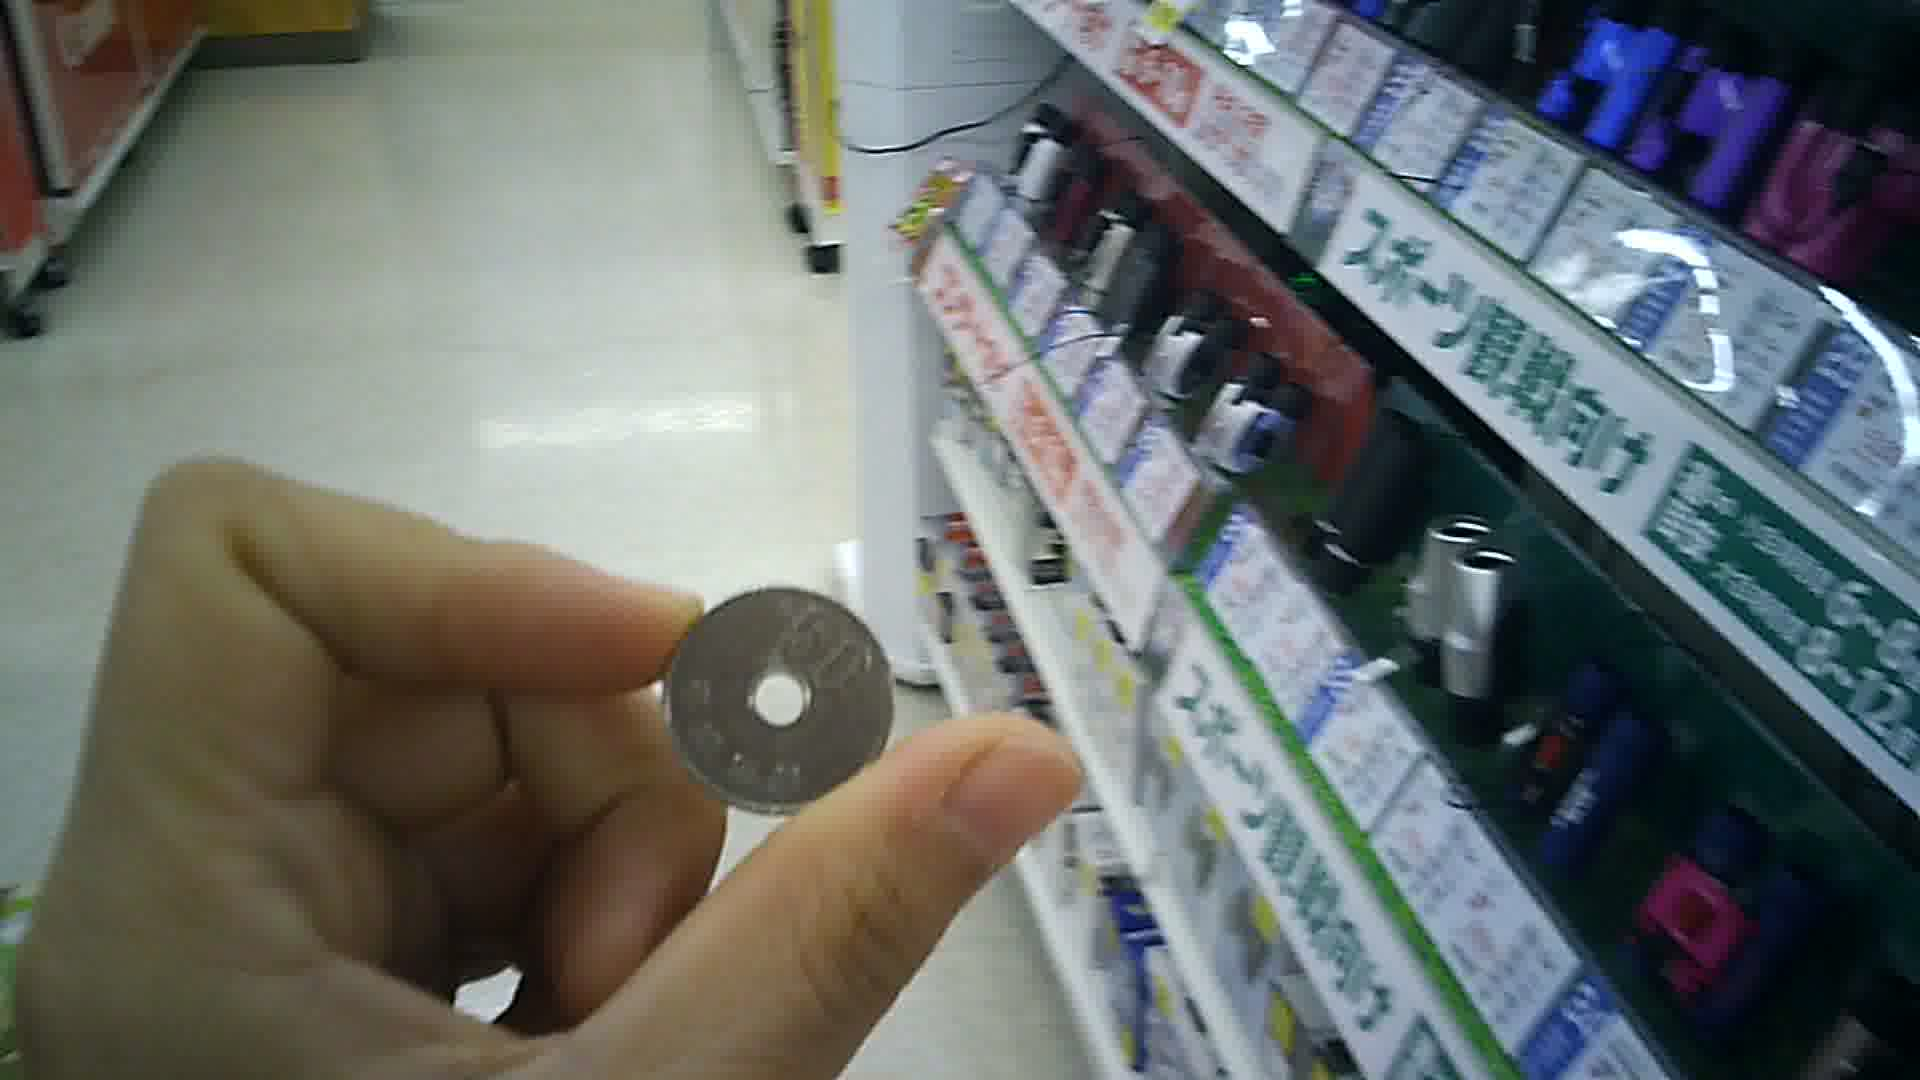50 Yen: (657, 574, 898, 808)
